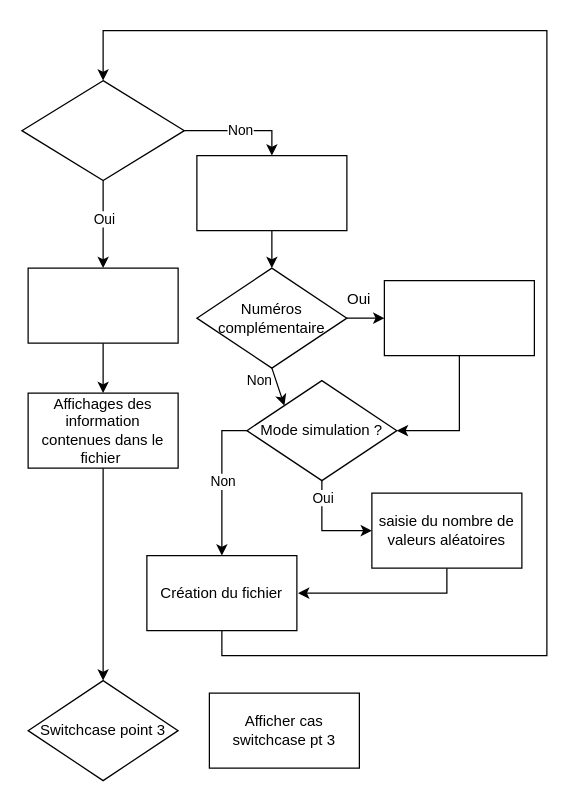
Image size: 579x803. Some labels were removed from this diagram. The centre of each missing label's shape, as x and y in pixels:
fichier txt existant: (102,130)
Saisie du nom du fichier à ouvrir: (102,305)
saisie du nom du loto saisie plage des valeurs: (271,192)
saisie plage des valeurs: (458,317)
